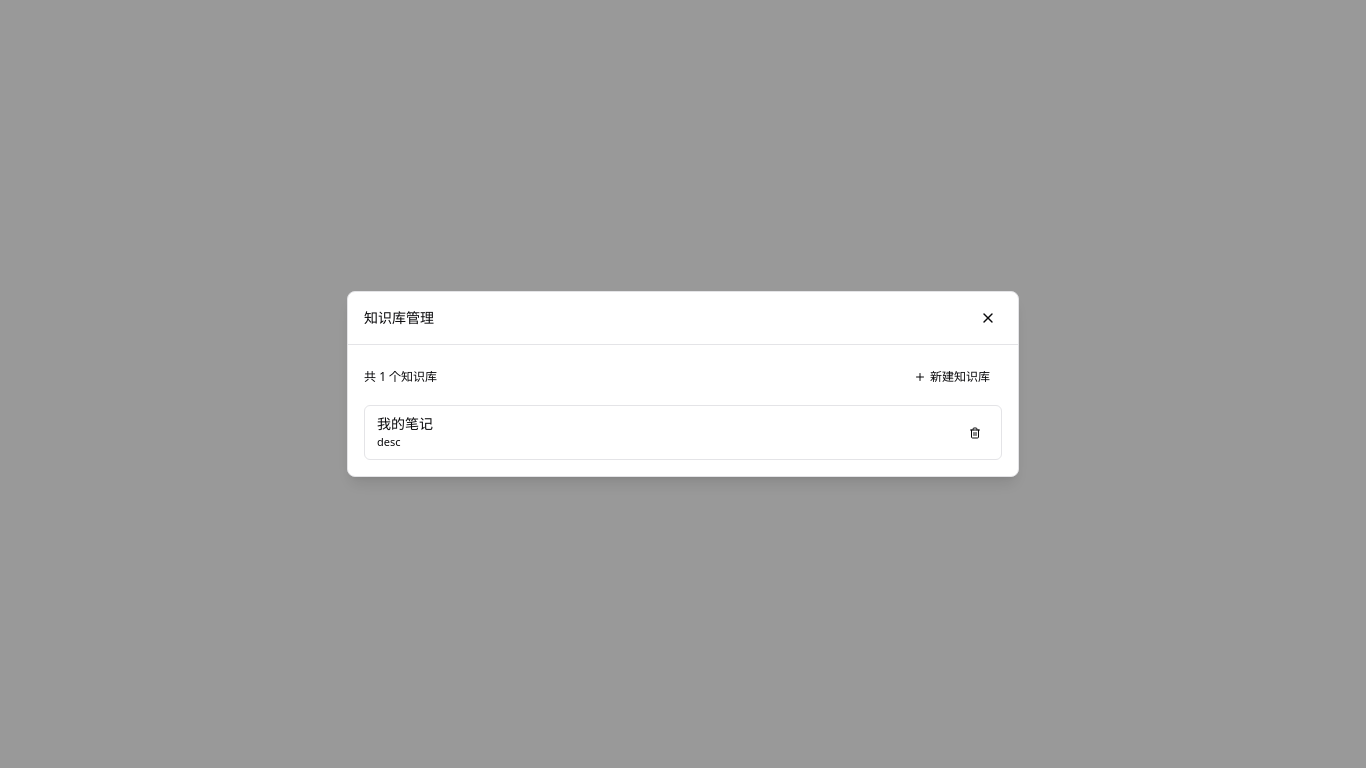
Test: KnowledgeBaseManager › opens a KB and uploads a document
Click the text "我的笔记": (405, 424) [377, 414, 433, 433]
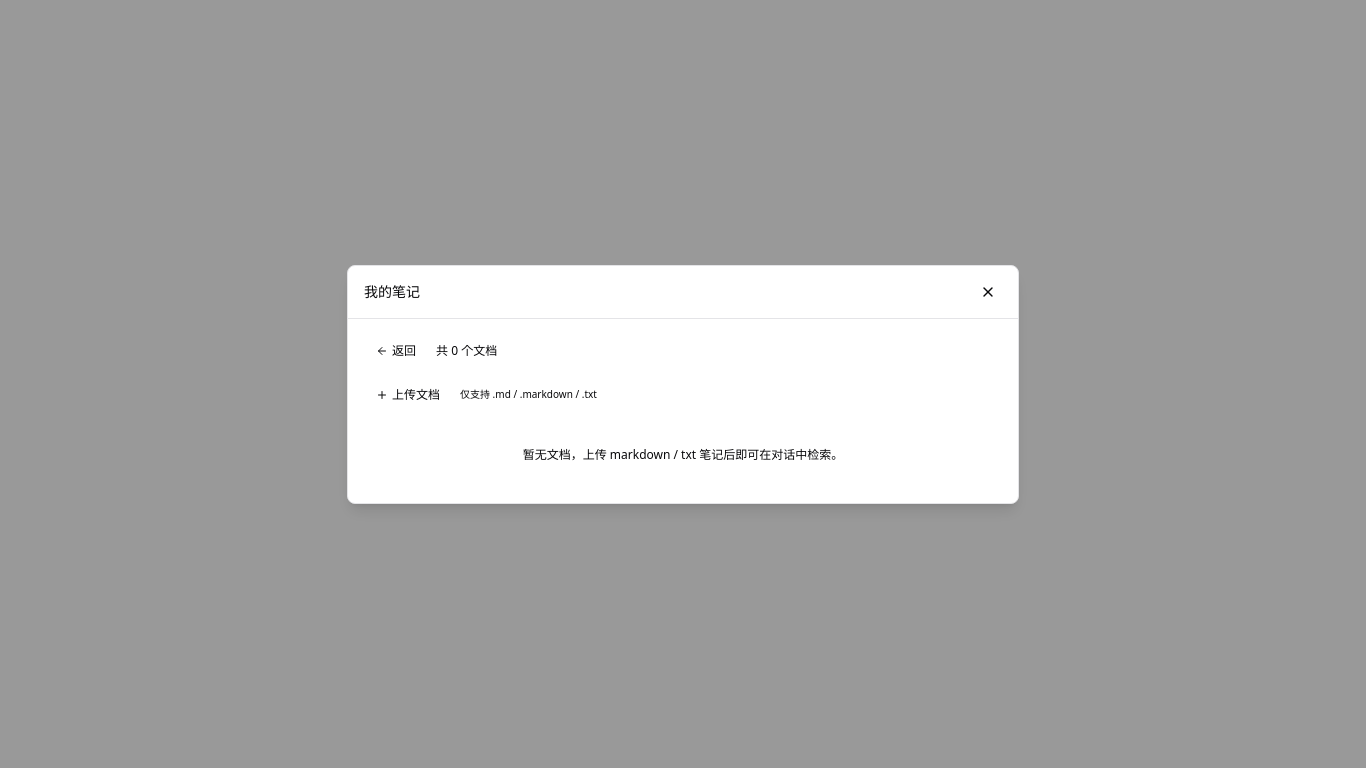
Expected: the element showing "上传文档 仅支持 .md / .markdown / .txt" is shown, [364, 378, 597, 410]
